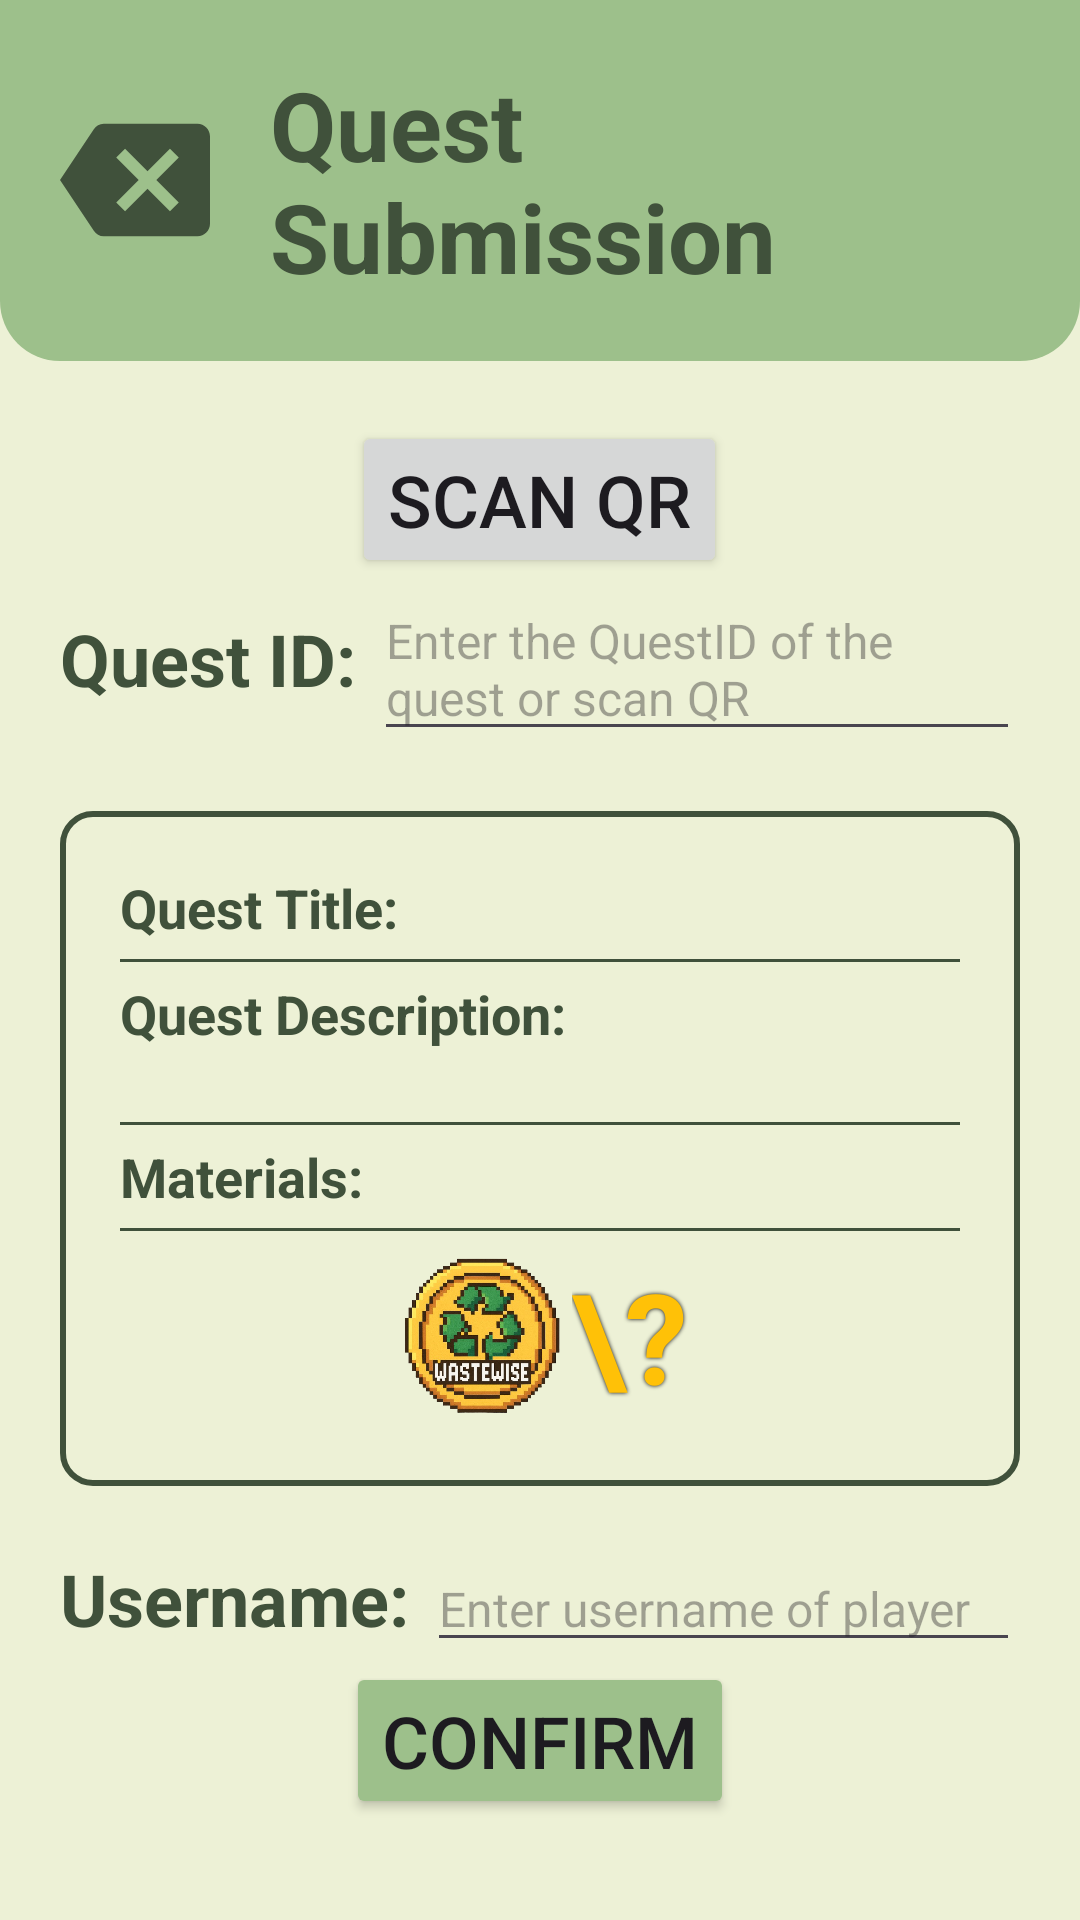

Icon click points for this 1080px x 1920px phone screenshot, format point (x, y):
backicon: point (135, 180)
